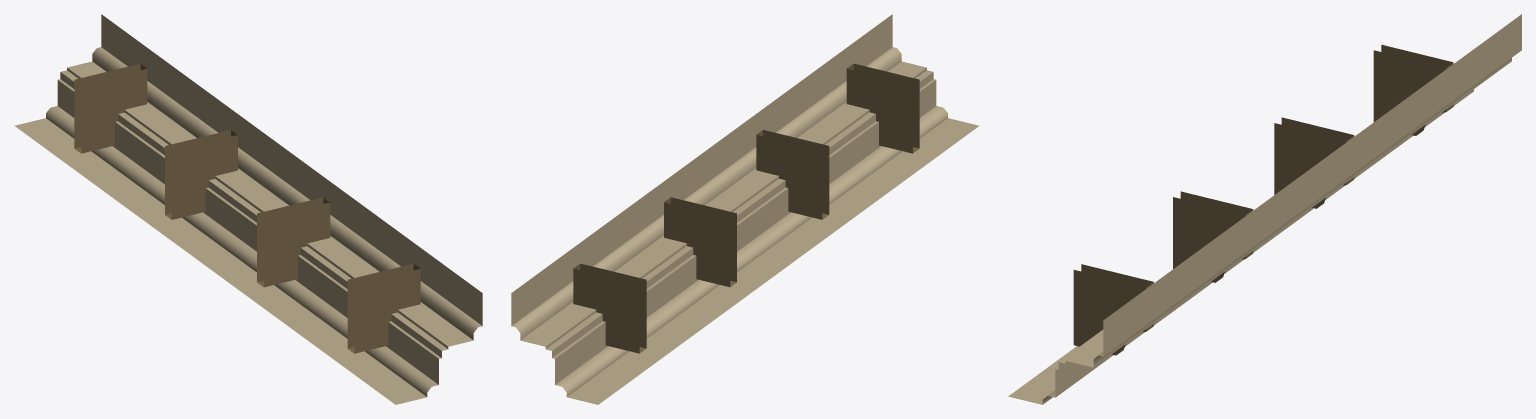
File: modular break top.fbx
The picture shows the model from 3 angles, left to right: view 1: azimuth 30°, elevation 25°; view 2: azimuth 150°, elevation 25°; view 3: azimuth 330°, elevation 25°; orthographic projection. The views are drawn at different scales.
Visible parts, largest first — view 1: polySurface140; view 2: polySurface140; view 3: polySurface140.
Part boxes in pixels (x1=…): polySurface140: x1=14, y1=14, x2=482, y2=404; polySurface140: x1=511, y1=14, x2=979, y2=404; polySurface140: x1=1008, y1=14, x2=1521, y2=404.
Size of the model in its own units: 65.79 by 65.53 by 500.
Materials: 1 (1 with a texture image).
